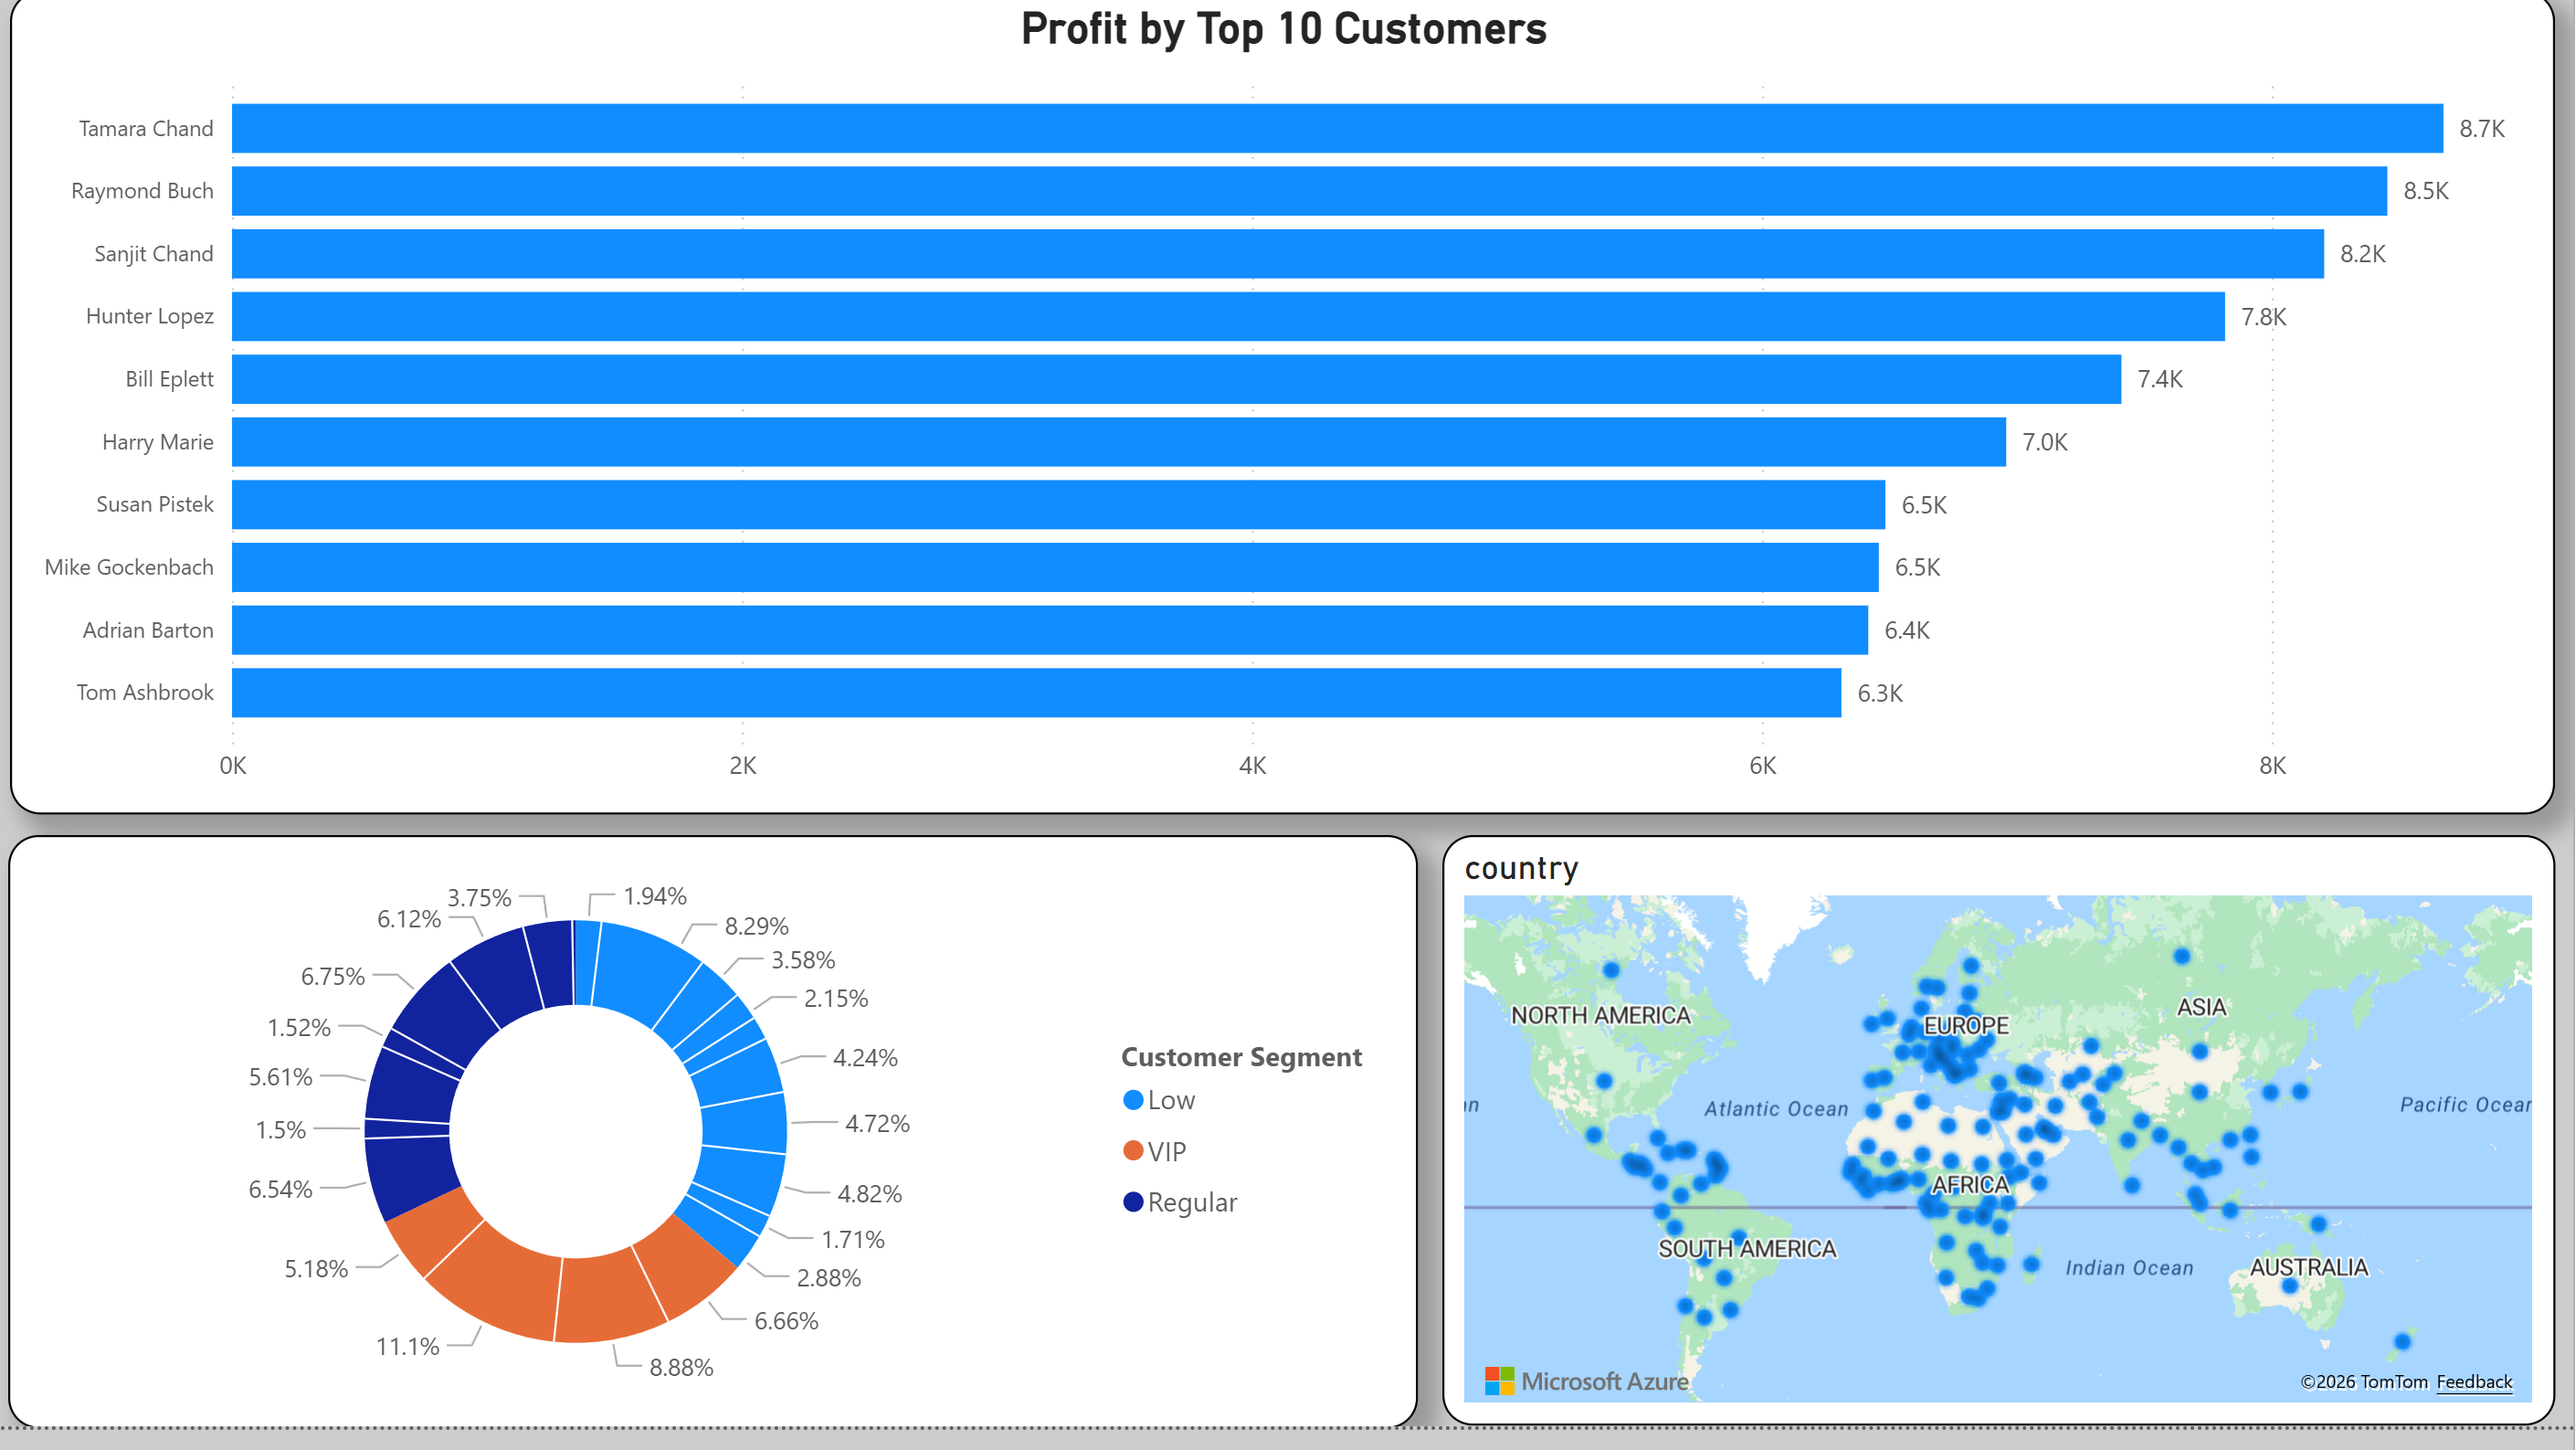

Layout of this report page (visuals, bound fields, positions):
{"tool":"powerbi","page":{"name":"Customer Analysis","canvas":[1280,720],"ordinal":1},"visuals":[{"type":"barChart","fields":{"Category":["SuperStoreOrders - SuperStoreOr.customer_name"],"Y":["Sum(SuperStoreOrders - SuperStoreOr.profit)"]},"box":[10.1,9.1,1260.8,407.8],"z":0},{"type":"donutChart","fields":{"Category":["SuperStoreOrders - SuperStoreOr.Customer Segment"],"Series":["SuperStoreOrders - SuperStoreOr.customer_name"],"Y":["Sum(SuperStoreOrders - SuperStoreOr.profit)"]},"box":[9.1,427,698.5,293.8],"z":1000},{"type":"azureMap","fields":{"Category":["SuperStoreOrders - SuperStoreOr.country"]},"box":[719.7,427.3,551.3,292.4],"z":2000}]}

Visuals, with their boxes in screenshot pixels (x1, y1, x2, y2), scaled from the page's 1280x720 canvas onto the 2576x1450 screenshot:
barChart - SuperStoreOrders - SuperStoreOr.customer_name x Sum(SuperStoreOrders - SuperStoreOr.profit): {"left": 20, "top": 18, "right": 2558, "bottom": 840}
donutChart - SuperStoreOrders - SuperStoreOr.Customer Segment x SuperStoreOrders - SuperStoreOr.customer_name: {"left": 18, "top": 860, "right": 1424, "bottom": 1449}
azureMap - SuperStoreOrders - SuperStoreOr.country: {"left": 1449, "top": 861, "right": 2558, "bottom": 1449}
